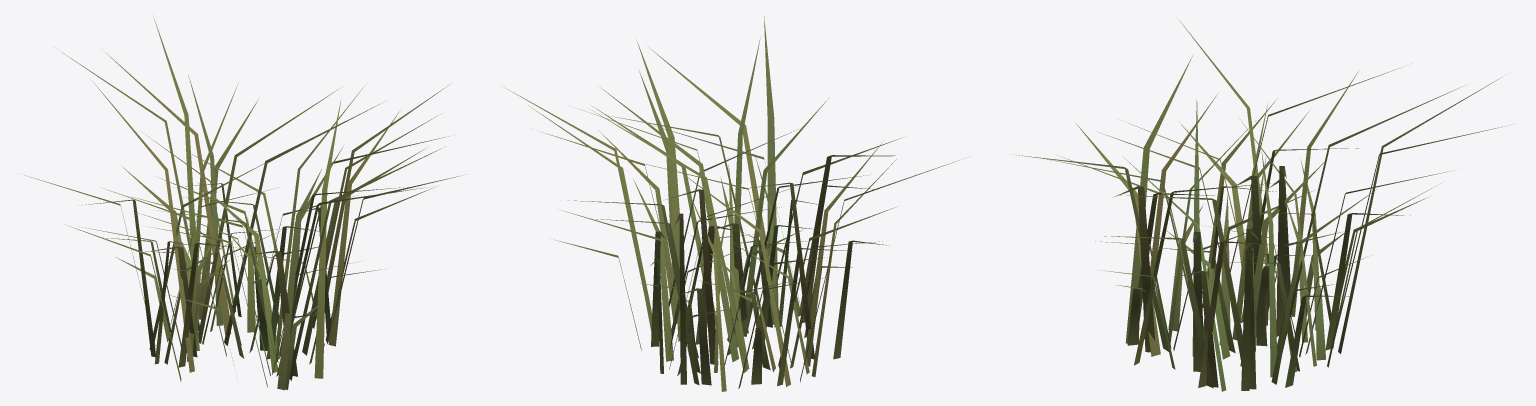
The model's file is grass-meadow-lod2.glb.
The picture shows the model from 3 angles, left to right: view 1: azimuth 30°, elevation 25°; view 2: azimuth 150°, elevation 25°; view 3: azimuth 270°, elevation 25°; orthographic projection. The views are drawn at different scales.
Parts seen in each view (by area): view 1: grass-meadow-lod2 foliage; view 2: grass-meadow-lod2 foliage; view 3: grass-meadow-lod2 foliage.
Boxes of the visible parts, left/top/right/bottom form: grass-meadow-lod2 foliage: left=24, top=19, right=465, bottom=390; grass-meadow-lod2 foliage: left=504, top=16, right=965, bottom=391; grass-meadow-lod2 foliage: left=1010, top=20, right=1513, bottom=391.
Size of the model in its own units: 1.07 by 0.5635 by 1.05.
